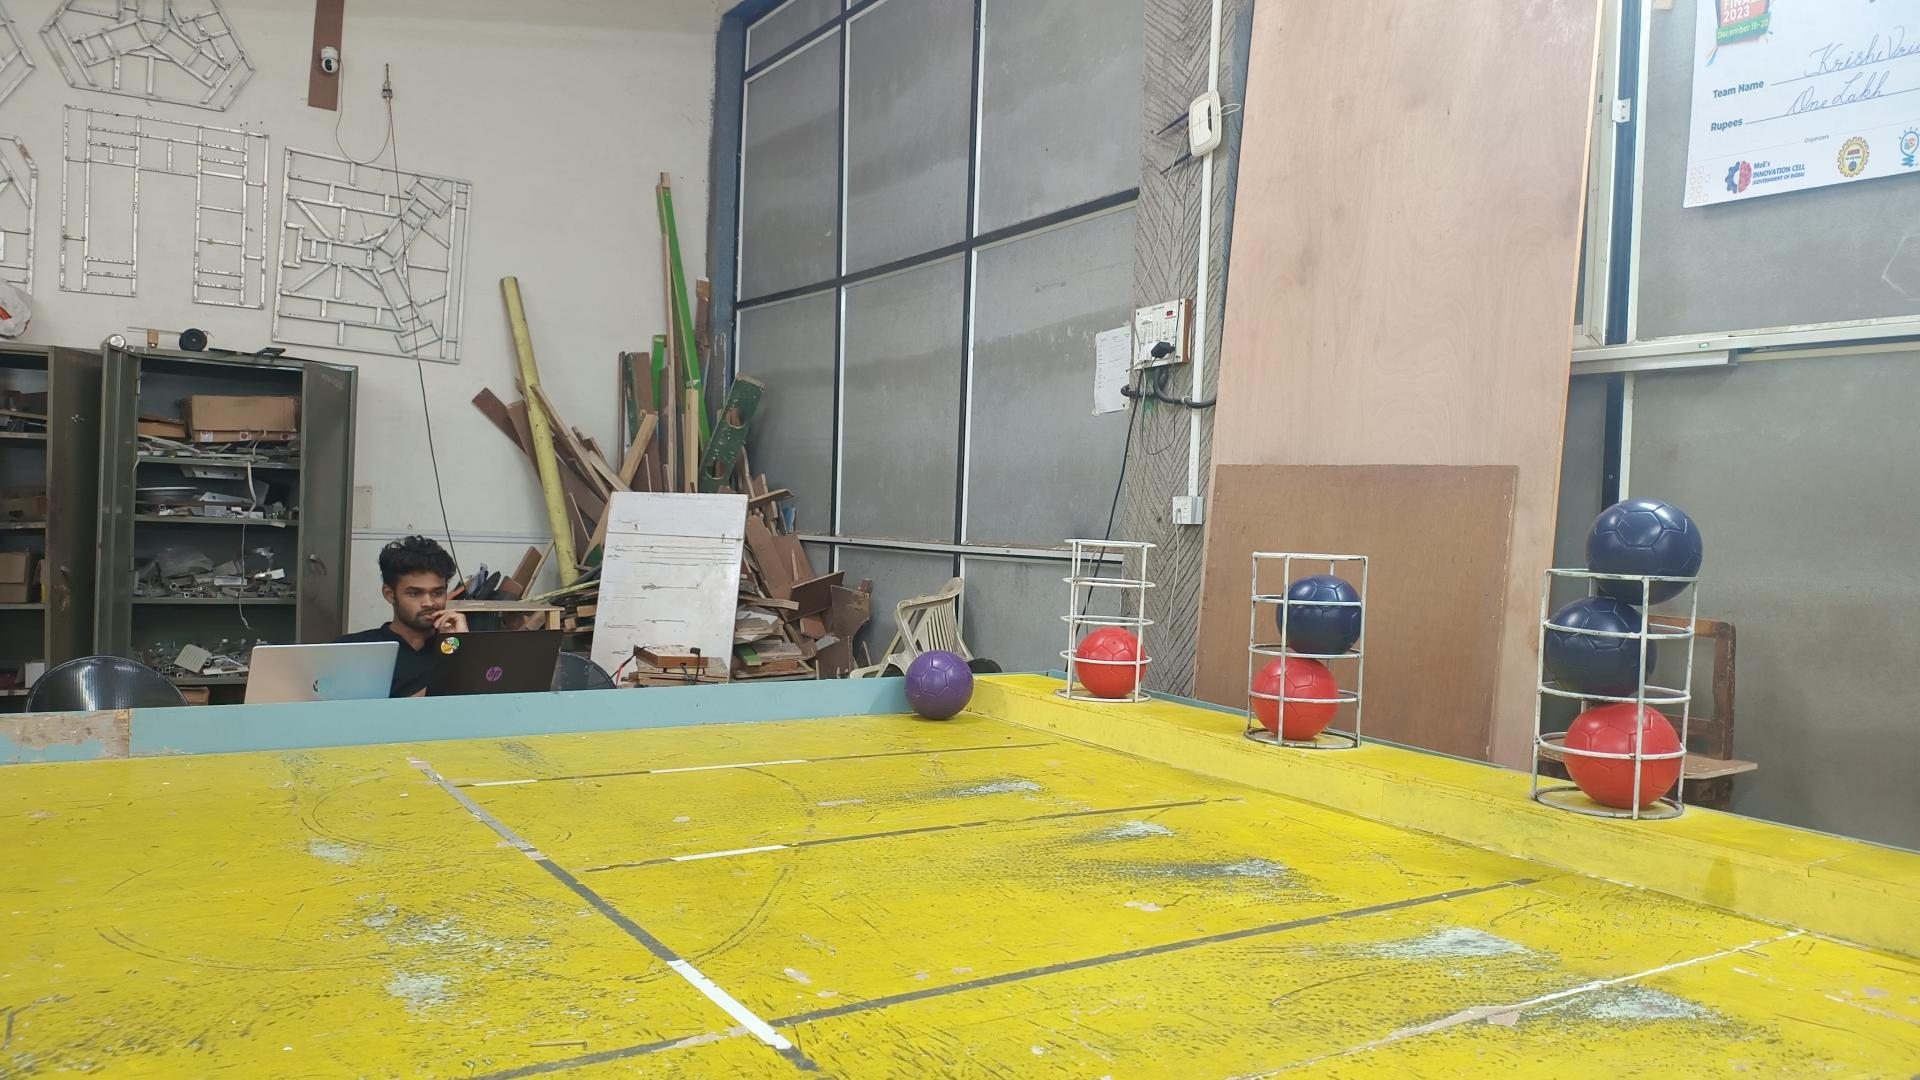dhoka: (1586, 498, 1702, 608), (1542, 596, 1658, 698), (1275, 574, 1361, 657)
laale: (1564, 702, 1684, 810), (1253, 657, 1338, 742), (1076, 626, 1147, 698)
